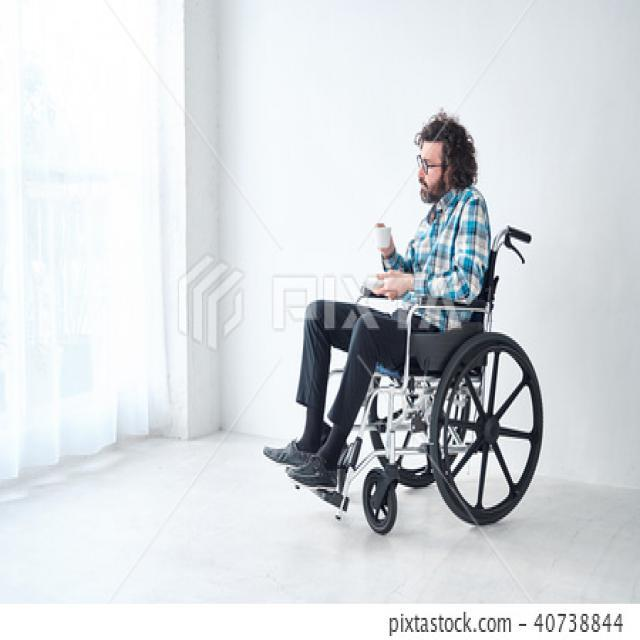peoplewithwheelchair: (258, 104, 544, 560)
